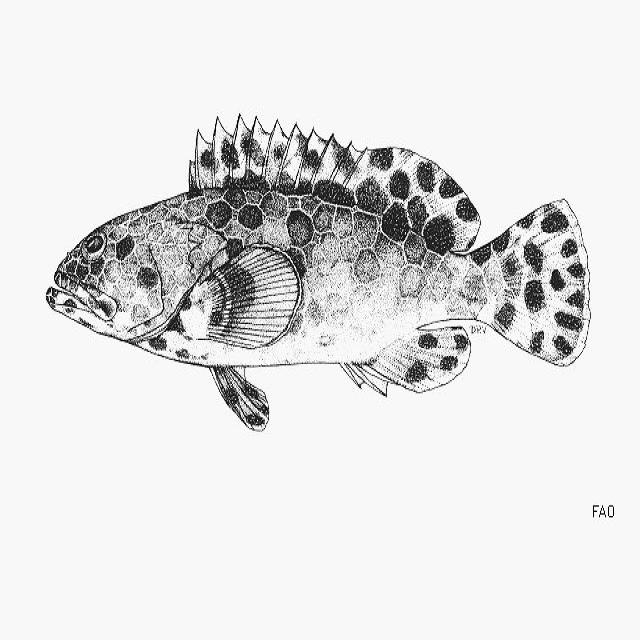ikan: (45, 112, 591, 432)
